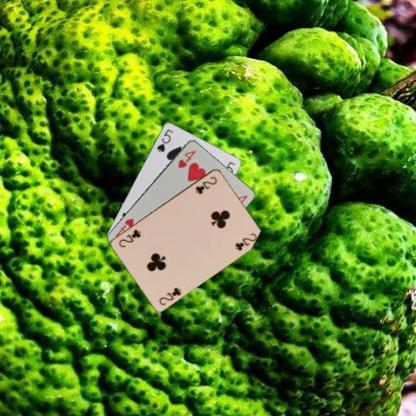2c: (192, 173, 218, 196), (156, 284, 182, 306)
4h: (176, 147, 198, 170)
5s: (154, 126, 174, 153)
